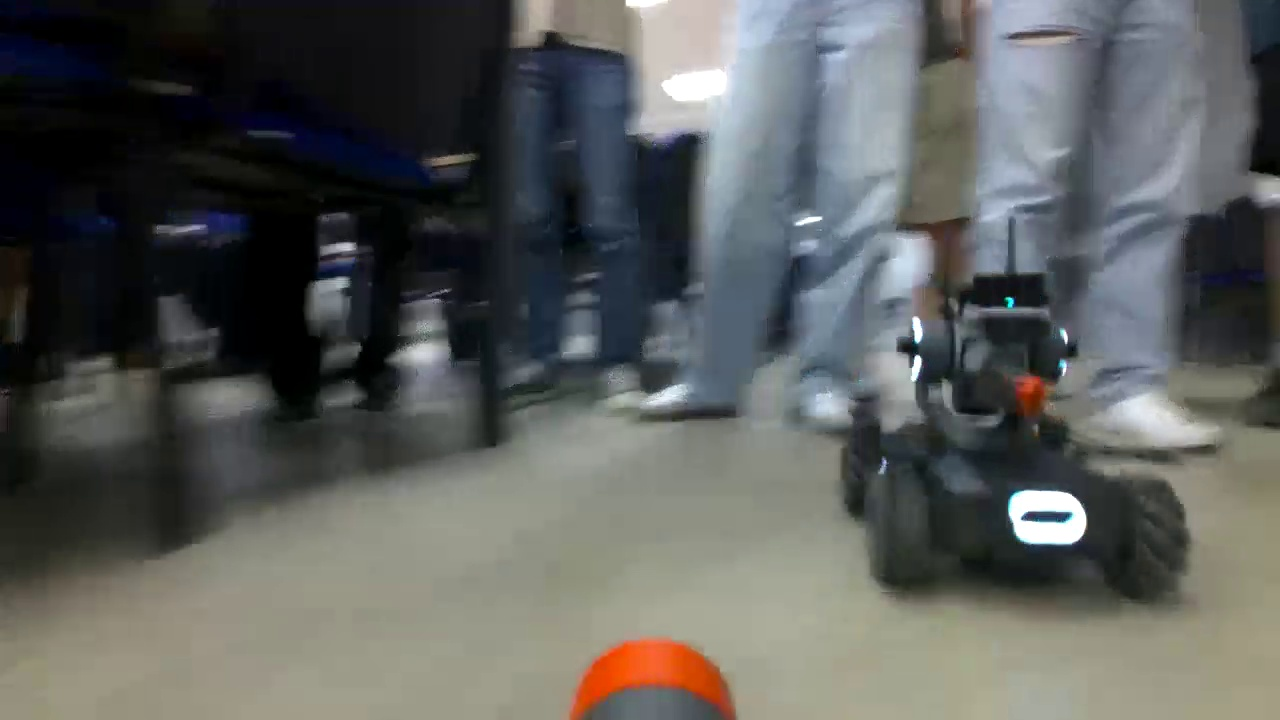robot: (838, 265, 1190, 600)
